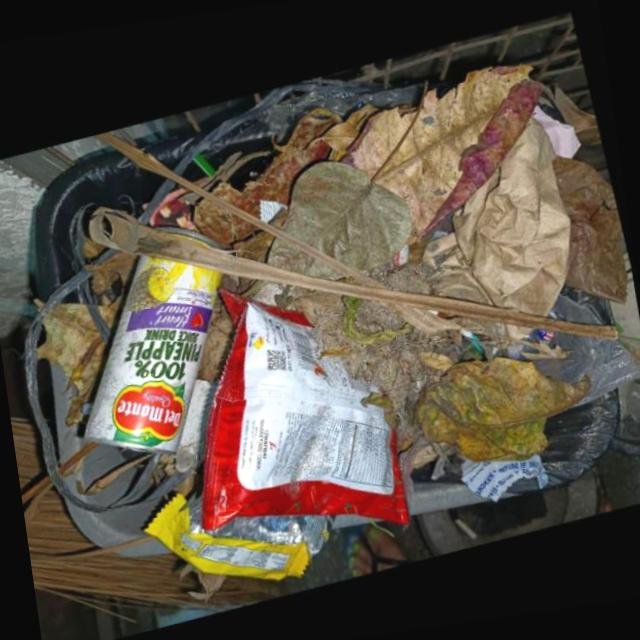bao_bi_thuc_pham: (201, 285, 411, 526), (144, 489, 338, 577)
giay: (423, 116, 573, 315), (175, 375, 219, 467), (535, 104, 584, 157)
la_cay: (94, 127, 502, 343), (90, 202, 621, 340), (342, 64, 546, 244), (239, 278, 459, 437), (268, 78, 432, 278), (195, 106, 346, 245), (29, 248, 143, 421), (414, 355, 593, 461), (554, 156, 629, 304), (21, 437, 99, 525), (222, 203, 289, 291), (180, 147, 270, 200), (197, 287, 237, 380), (29, 531, 154, 557), (308, 104, 380, 149), (400, 435, 436, 521), (76, 452, 152, 490)
nhom: (83, 222, 230, 451)
tui_ni_long: (524, 295, 640, 407)
